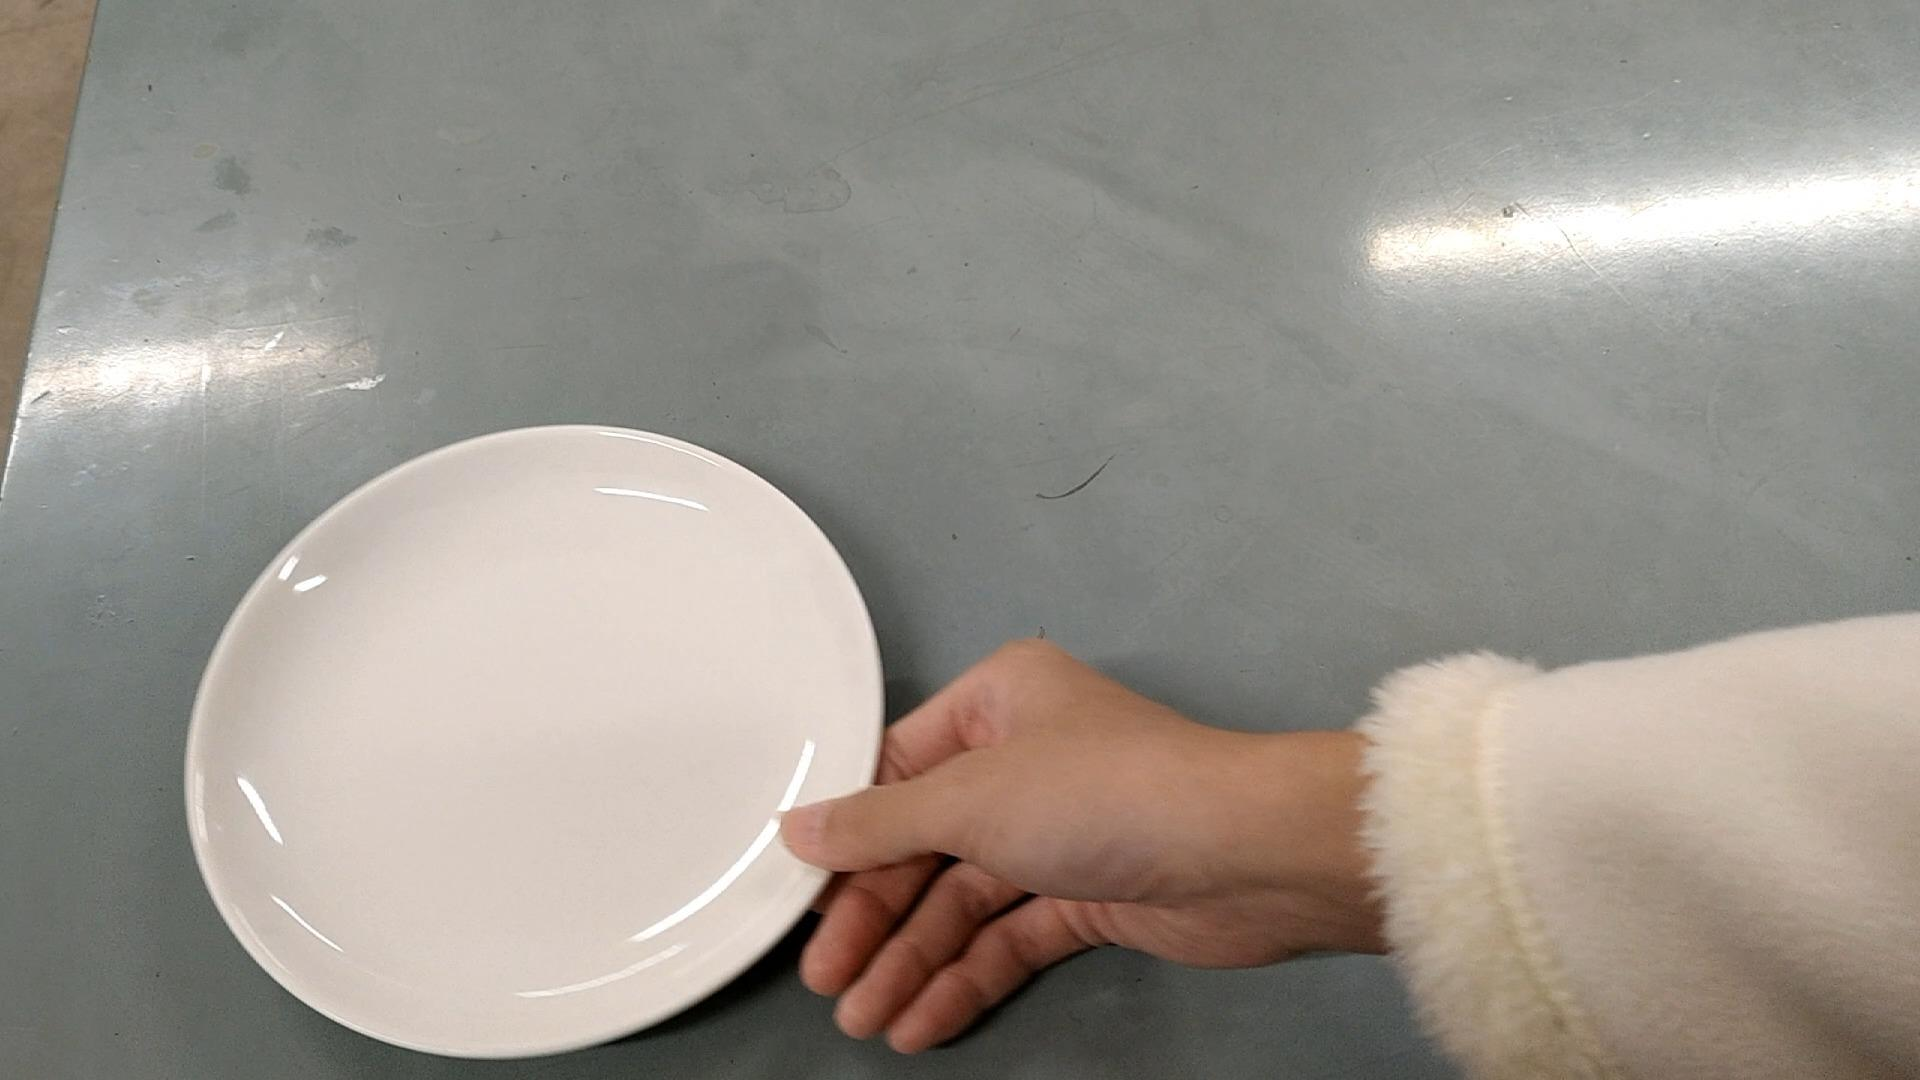plate: (186, 421, 881, 1054)
